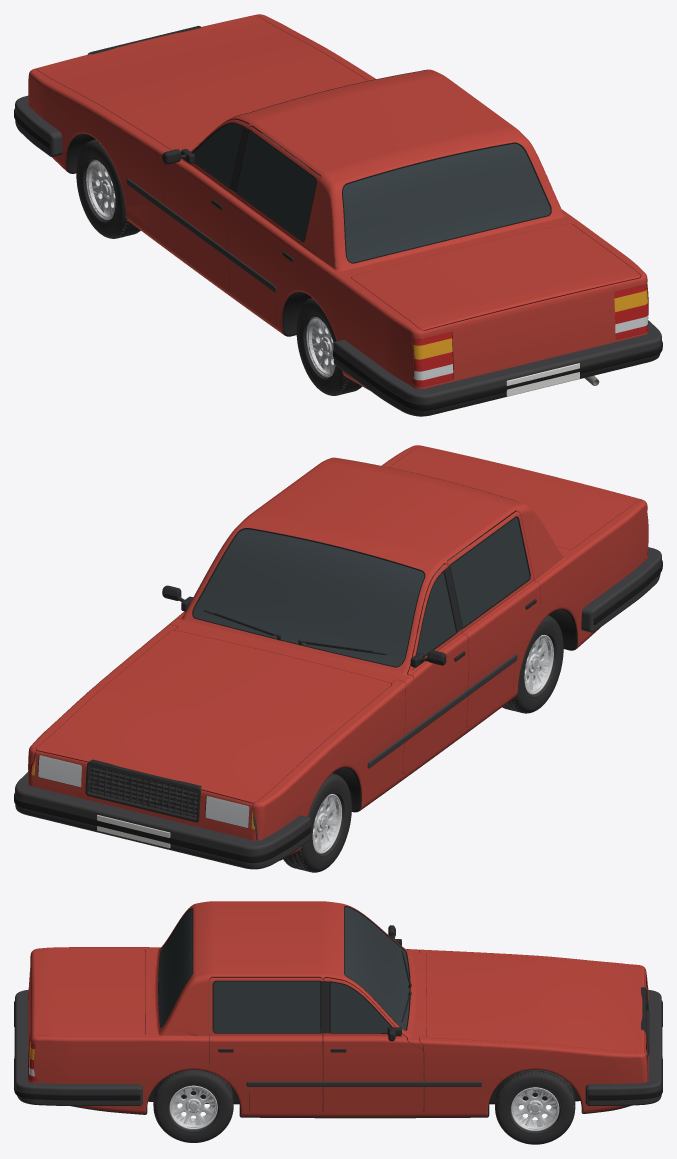
File: nordvik.glb
3 views of the same model, one above another, from view 1: azimuth 30°, elevation 25°; view 2: azimuth 150°, elevation 25°; view 3: azimuth 270°, elevation 25° (orthographic). The views are drawn at different scales.
Visible parts, largest first — view 1: Body, Hood, Glass_Rear, Trunk, Fender_FL, Bumper_R, Door_RL, Door_FL, Glass_RL, Wheel_FL_Tyre, Bumper_R_Strip, Glass_FL (+9 smaller); view 2: Body, Hood, Glass_Front, Fender_FL, Trunk, Bumper_F, Door_RL, Door_FL, Glass_RL, Grille, Wheel_FL_Tyre, Bumper_F_Strip (+10 smaller); view 3: Body, Hood, Fender_FR, Trunk, Door_RR, Door_FR, Glass_RR, Glass_Front, Bumper_R, Wheel_FR_Tyre, Wheel_RR_Tyre, Glass_Rear (+9 smaller).
Boxes of the visible parts, x1,y1,x2,y2 form: Body: [55, 69, 648, 389]; Hood: [36, 15, 367, 149]; Glass_Rear: [342, 142, 551, 263]; Trunk: [351, 223, 640, 330]; Fender_FL: [28, 68, 172, 241]; Bumper_R: [333, 320, 661, 416]; Door_RL: [227, 126, 321, 323]; Door_FL: [164, 119, 248, 289]; Glass_RL: [236, 129, 316, 241]; Wheel_FL_Tyre: [76, 139, 140, 238]; Bumper_R_Strip: [333, 341, 662, 410]; Glass_FL: [192, 122, 243, 188]; Body: [29, 445, 648, 860]; Hood: [36, 630, 391, 803]; Glass_Front: [192, 528, 425, 667]; Fender_FL: [253, 680, 405, 857]; Trunk: [389, 445, 640, 549]; Bumper_F: [15, 772, 310, 869]; Door_RL: [447, 511, 540, 726]; Door_FL: [402, 564, 468, 773]; Glass_RL: [449, 516, 530, 628]; Grille: [85, 759, 201, 822]; Wheel_FL_Tyre: [283, 773, 351, 872]; Bumper_F_Strip: [14, 793, 311, 862]; Body: [28, 901, 648, 1118]; Hood: [426, 952, 644, 1052]; Fender_FR: [419, 1037, 647, 1111]; Trunk: [32, 949, 145, 1035]; Door_RR: [209, 977, 322, 1112]; Door_FR: [323, 978, 423, 1112]; Glass_RR: [212, 980, 321, 1033]; Glass_Front: [344, 906, 410, 1030]; Bumper_R: [15, 989, 142, 1105]; Wheel_FR_Tyre: [495, 1069, 575, 1144]; Wheel_RR_Tyre: [153, 1069, 233, 1142]; Glass_Rear: [158, 908, 193, 1027].
Bounding box in the file's own units: 1.99 × 1.43 × 5.02.
